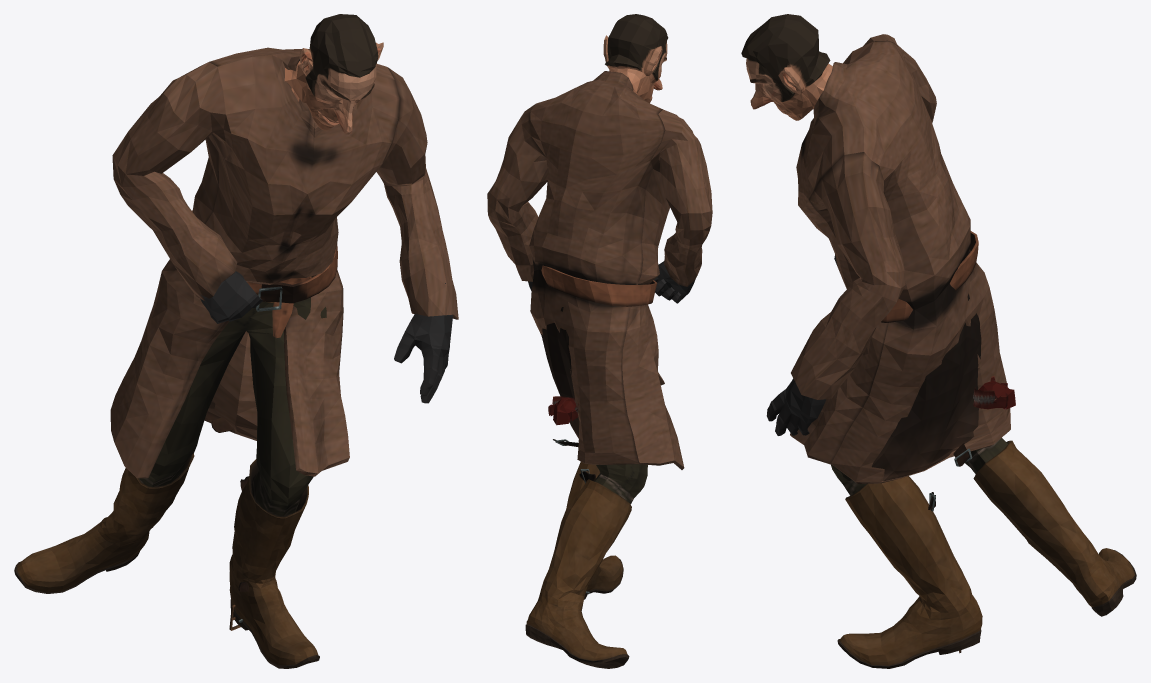
Rendered from sniper01_000021.obj.
The picture shows the model from 3 angles, left to right: view 1: azimuth 30°, elevation 25°; view 2: azimuth 150°, elevation 25°; view 3: azimuth 270°, elevation 25°; orthographic projection. The views are drawn at different scales.
Visible parts, largest first — view 1: Tops, Shoes, Bottoms, BodyParts; view 2: Tops, Shoes, BodyParts, Bottoms; view 3: Tops, Shoes, BodyParts, Bottoms.
Part boxes in pixels (bbox=[...]): Tops: bbox=[110, 47, 458, 622]; Shoes: bbox=[14, 453, 319, 668]; Bottoms: bbox=[139, 275, 326, 630]; BodyParts: bbox=[200, 14, 452, 403]; Tops: bbox=[487, 71, 712, 593]; Shoes: bbox=[525, 462, 631, 668]; BodyParts: bbox=[528, 14, 695, 425]; Bottoms: bbox=[594, 464, 647, 504]; Tops: bbox=[790, 34, 1010, 511]; Shoes: bbox=[837, 440, 1136, 668]; BodyParts: bbox=[741, 14, 1015, 435]; Bottoms: bbox=[831, 438, 1007, 653].
Size of the model in its own units: 1.08 by 2.36 by 1.32.
